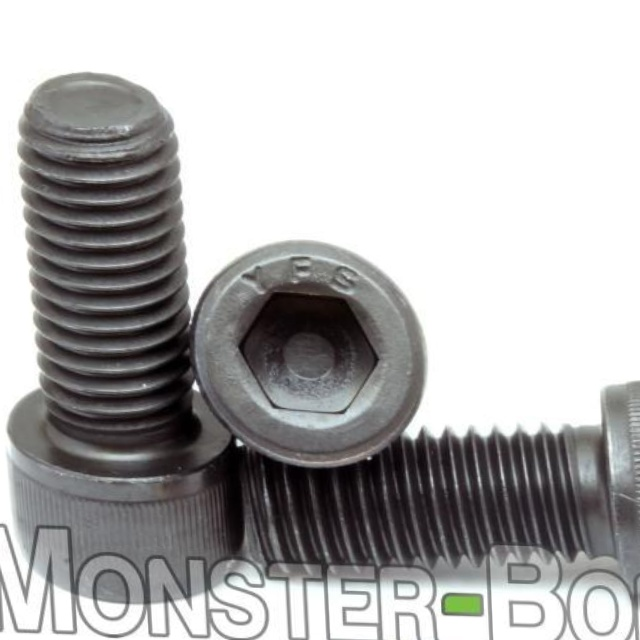allen: (235, 284, 381, 418)
